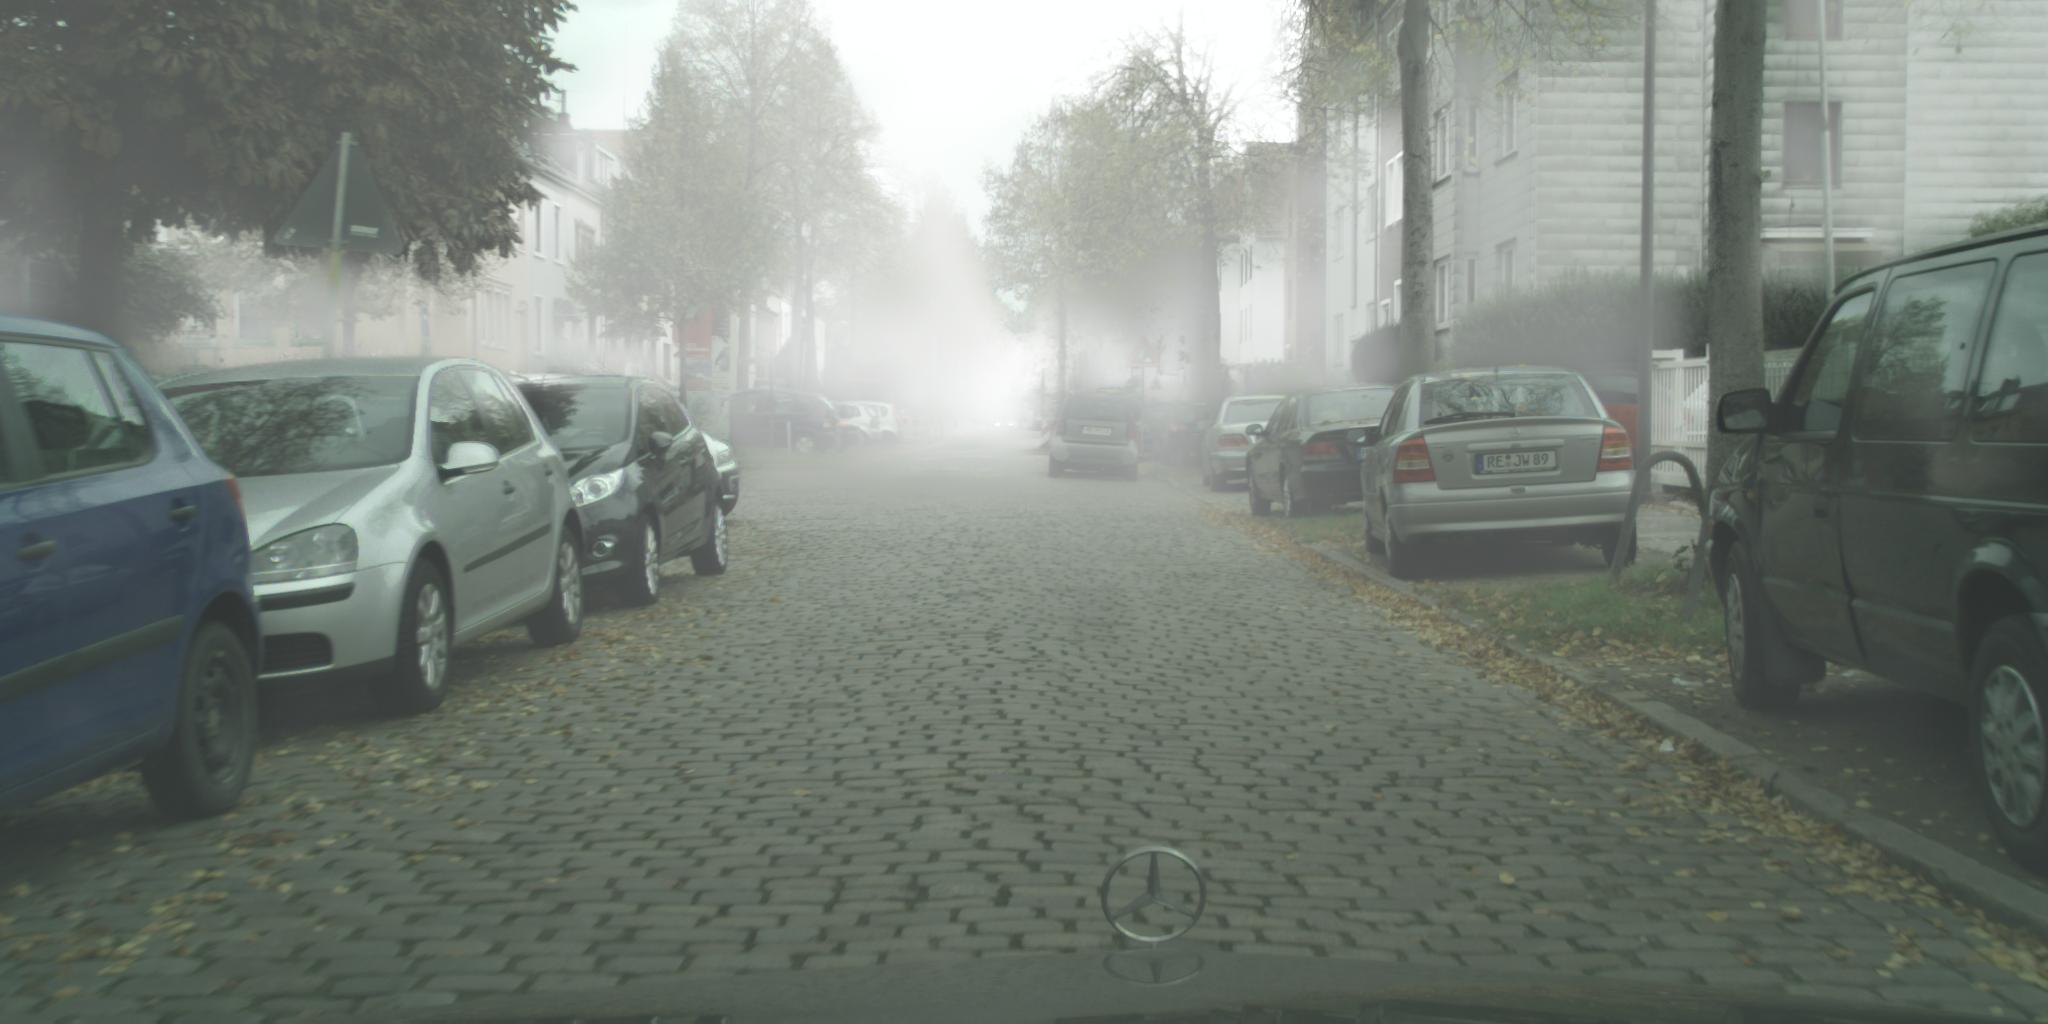car: (1707, 222, 2048, 869), (142, 354, 588, 718), (1, 316, 264, 819), (1347, 364, 1639, 581), (505, 372, 731, 611), (1243, 383, 1418, 521), (1546, 359, 1642, 498), (1198, 394, 1293, 492), (1049, 389, 1142, 485), (728, 388, 842, 456), (675, 419, 742, 522), (1148, 398, 1216, 466), (812, 398, 865, 455), (844, 400, 899, 451), (825, 402, 882, 451), (1134, 404, 1177, 455), (1122, 397, 1155, 453), (986, 414, 1027, 430)
